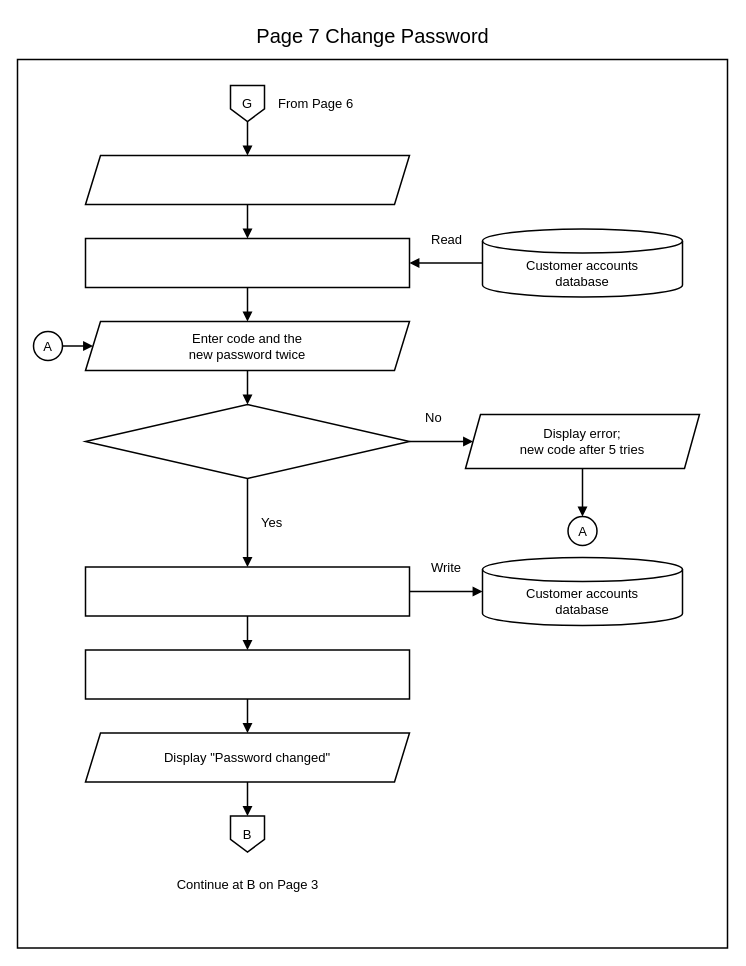
Image size: 746x966. Some labels were removed from this diagram. Each missing label, with the centre of its shape:
Click Send code: the point at 247,179
Code correct and not expired?: the point at 247,441
Save new password: the point at 247,591
Send 6-digit code to the customer's email: the point at 247,262
Sign out other web and mobile sessions: the point at 247,674
